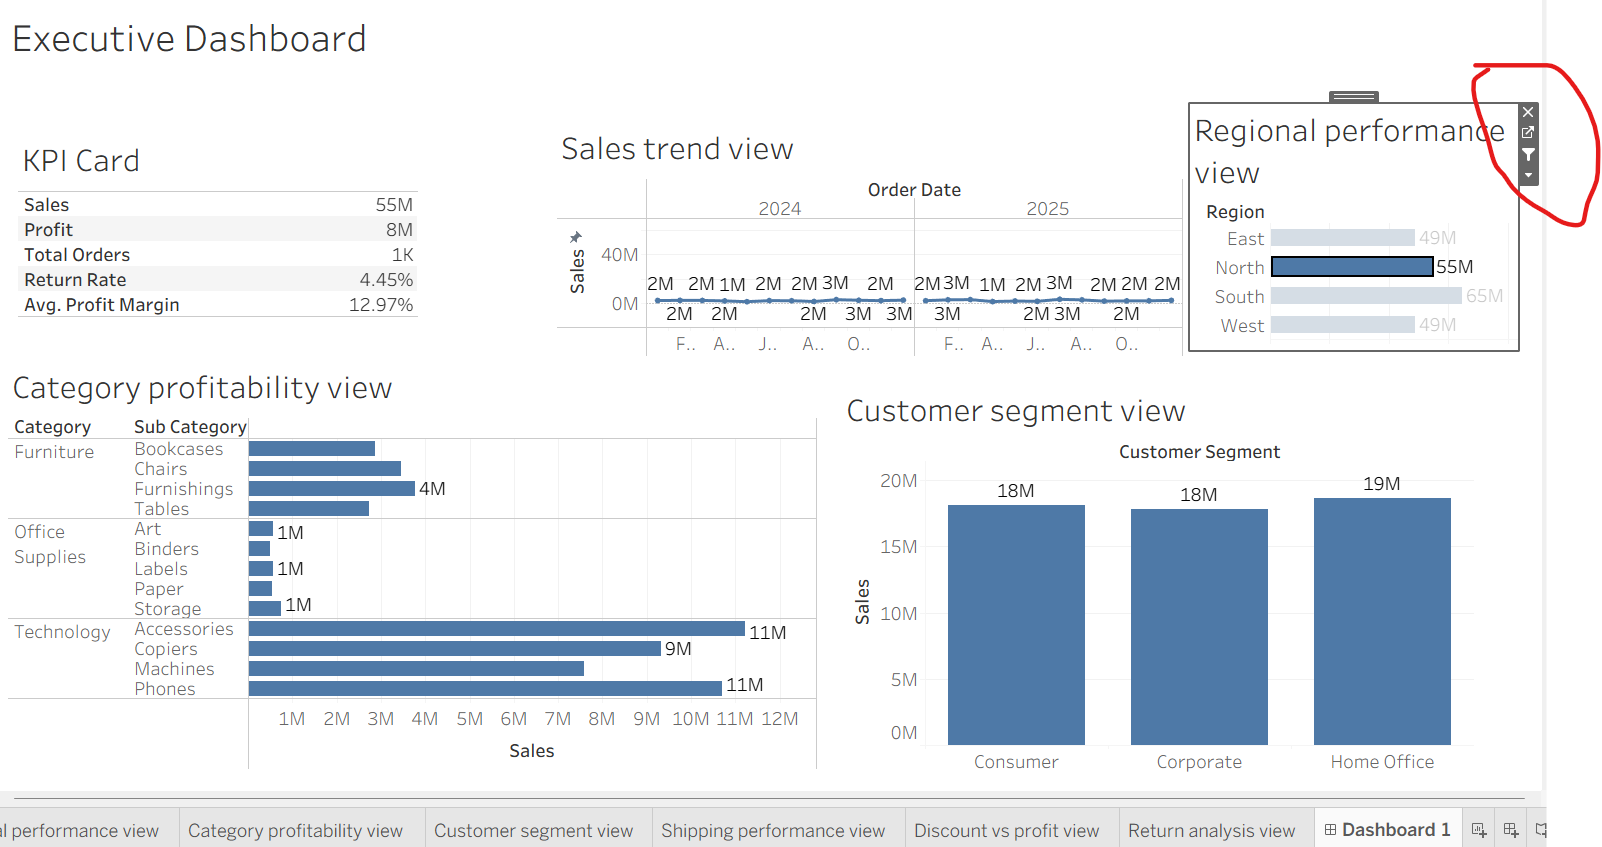

The dashboard page shown, as its layout file describes it:
{"tool":"tableau","page":{"name":"Dashboard 1","canvas":[1000,1000],"units":"permille","ordinal":0},"visuals":[{"type":"title","box":[5.2,9.9,989.7,72]},{"type":"worksheet","title":"Regional performance view","mark":"Automatic","rows":["region"],"cols":["sales"],"box":[773,129,212.2,305.2]},{"type":"worksheet","title":"Sales trend view","mark":"Line","rows":["sales"],"cols":["order_date","order_date"],"box":[363.5,151.4,404.9,291.6]},{"type":"worksheet","title":"KPI Card","mark":"Automatic","box":[14.9,166.2,340.2,258.1]},{"type":"worksheet","title":"Category profitability view","mark":"Automatic","rows":["category","sub_category"],"cols":["sales"],"box":[8.5,447.9,523.2,536]},{"type":"worksheet","title":"Customer segment view","mark":"Automatic","rows":["sales"],"cols":["customer_segment"],"box":[548,476.4,408.9,497.5]}]}

Visuals, with their boxes on the dashboard's canvas, which has no fixed pixel size, in thousandths of its width and height (x1, y1, x2, y2). These are canvas units, not pixel positions in the 1602x847 screenshot, which may show the page scaled, cropped or inside an application window:
title: [5,10,995,82]
"Regional performance view" worksheet: [773,129,985,434]
"Sales trend view" worksheet (Line marks): [364,151,768,443]
"KPI Card" worksheet: [15,166,355,424]
"Category profitability view" worksheet: [8,448,532,984]
"Customer segment view" worksheet: [548,476,957,974]
